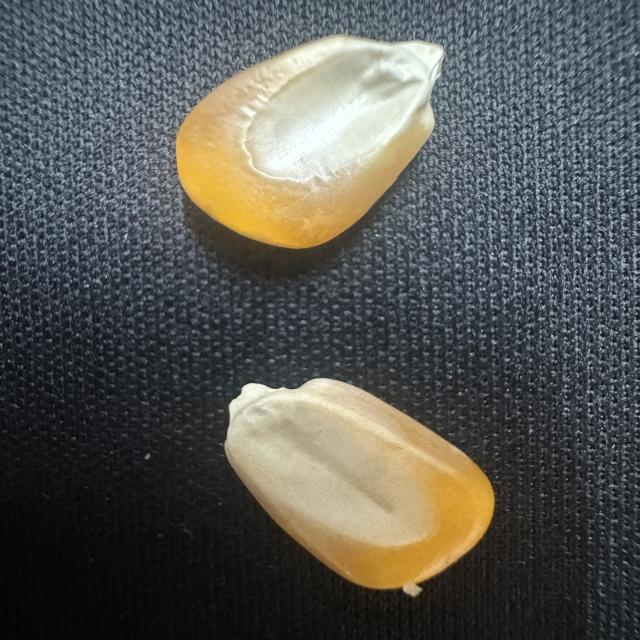Good-Seed: (217, 373, 499, 598), (170, 30, 446, 256)
